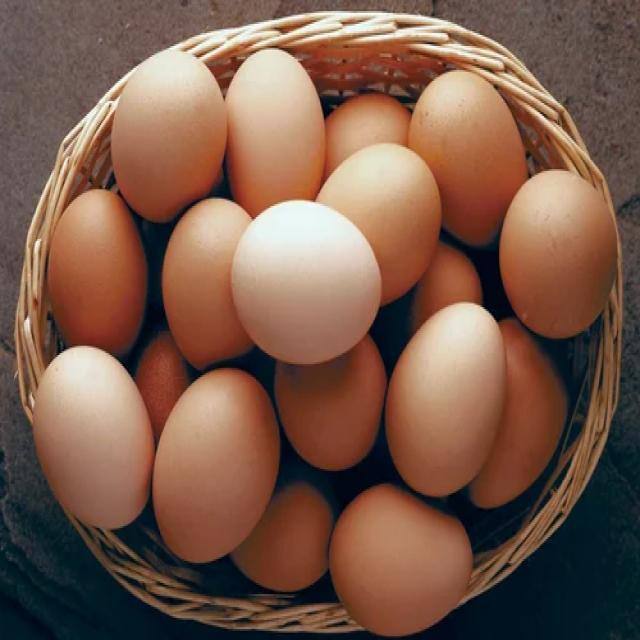Egg: (154, 368, 280, 562), (234, 199, 381, 364), (386, 304, 506, 497), (34, 347, 155, 529), (329, 485, 471, 636), (409, 70, 528, 245), (316, 144, 441, 303), (111, 50, 226, 222), (500, 171, 616, 338), (469, 320, 568, 507), (225, 48, 326, 216), (48, 190, 148, 355), (162, 198, 252, 369), (324, 93, 411, 179)
